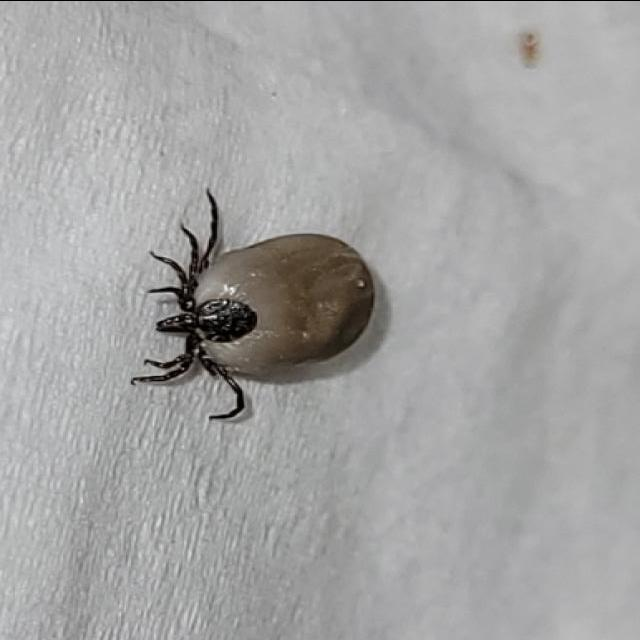Ixodes Ricinus-F-Fed: (129, 191, 388, 424)
